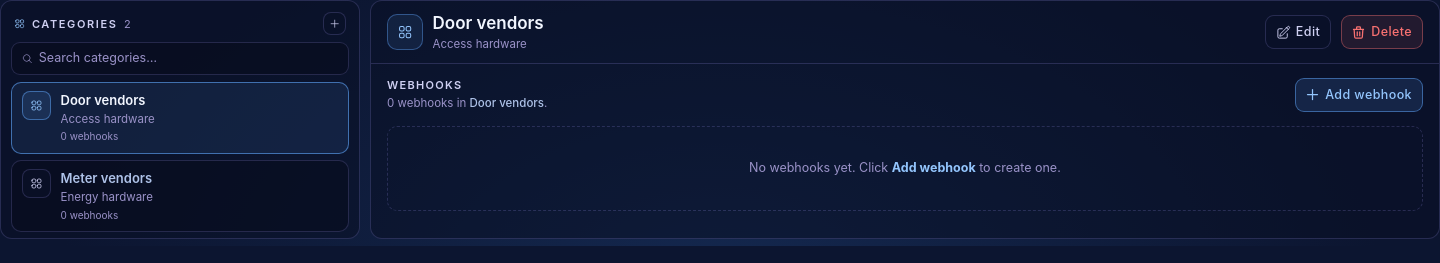
Test case: the derived selection › keeps an explicit choice across a refetch rather than snapping back to the first
Click the text "Meter vendors" at (106, 178), box 60,170 -> 152,186
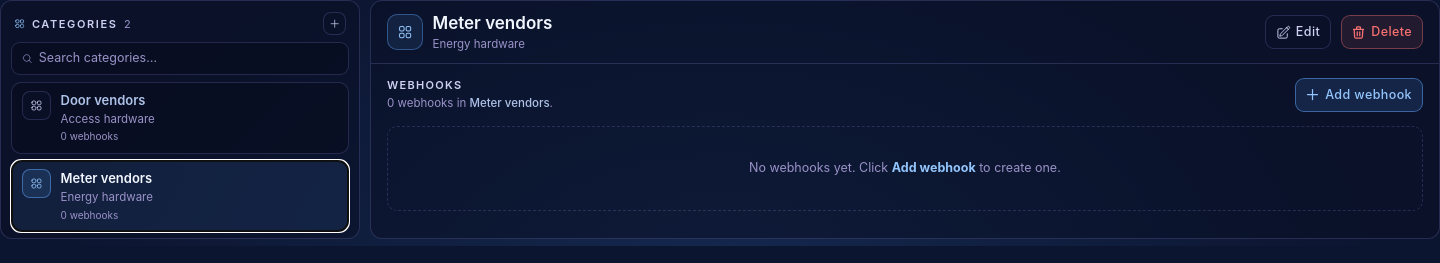
expect the heading "Meter vendors" is shown: met, box 432,13 -> 552,33
